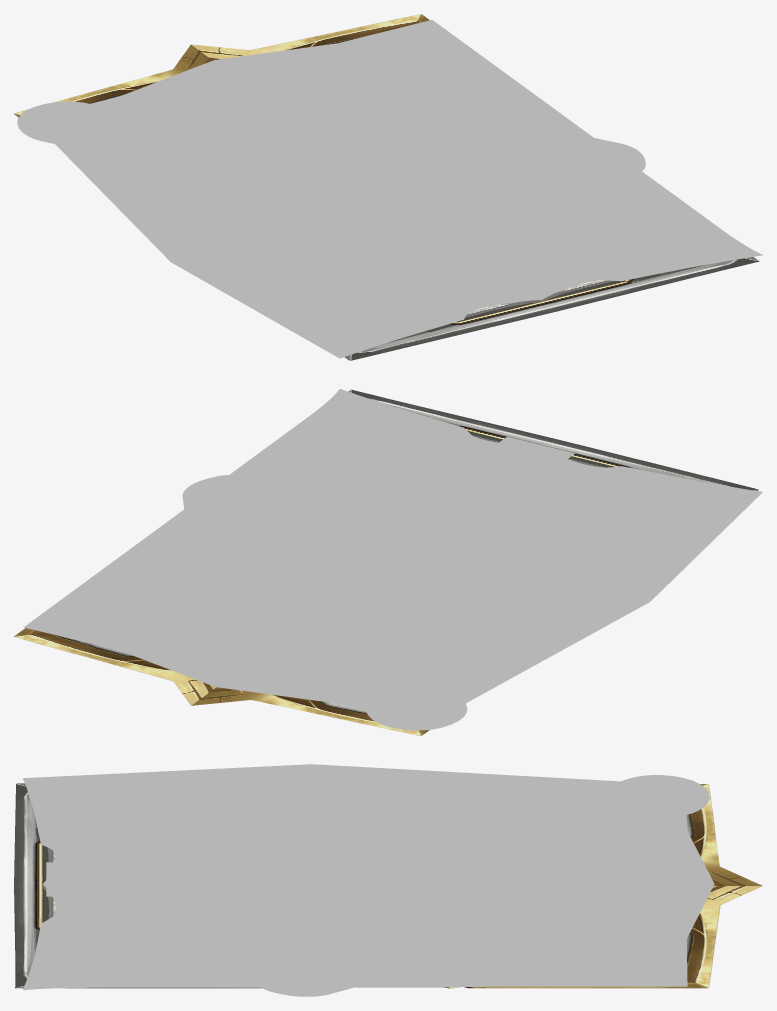
The model's file is mortal-newonhand 1.fbx.
3 renders of one model, top to bottom at view 1: azimuth 30°, elevation 25°; view 2: azimuth 150°, elevation 25°; view 3: azimuth 270°, elevation 25°, orthographic. The views are drawn at different scales.
Parts seen in each view (by area): view 1: frame, print, back, raity; view 2: frame, print, back, raity; view 3: frame, print, back, raity, shard, shard.001, shard.002, shard.003, shard.004.
Part boxes in pixels (box(x1,y1,x2,y2)): frame: box(17, 20, 762, 358); print: box(108, 45, 677, 321); back: box(14, 14, 759, 360); raity: box(479, 268, 572, 302); frame: box(23, 389, 762, 730); print: box(85, 425, 677, 697); back: box(14, 389, 758, 735); raity: box(482, 436, 574, 471); frame: box(23, 764, 714, 996); print: box(85, 800, 708, 967); back: box(14, 783, 762, 988); raity: box(46, 862, 98, 896); shard: box(572, 784, 619, 804); shard.001: box(523, 784, 570, 804); shard.002: box(474, 784, 522, 804); shard.003: box(425, 784, 473, 804); shard.004: box(377, 784, 424, 804).
Bounding box in the file's own units: 56.96 × 0.6673 × 77.52.
